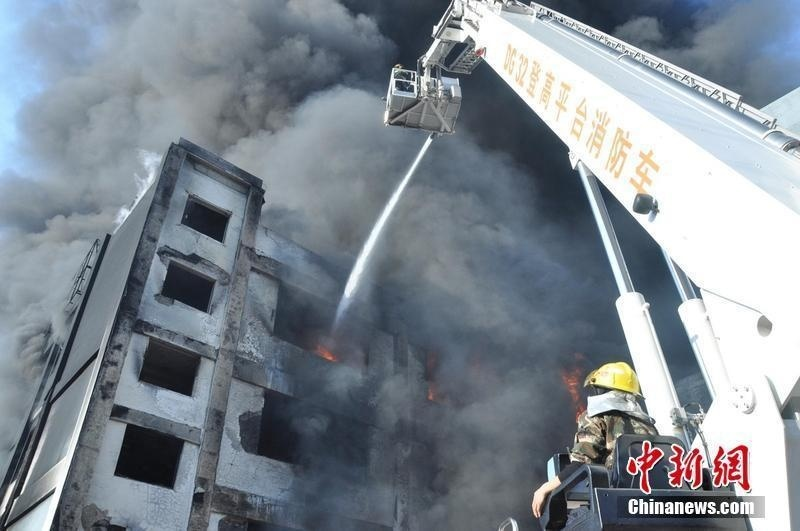fire: (315, 343, 338, 362)
